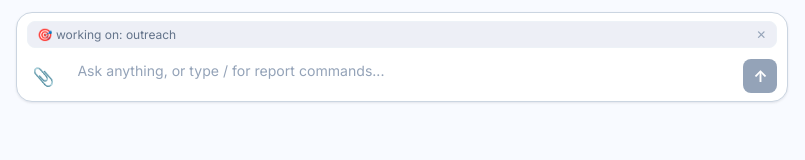
Test case: <ChatInputBar /> context bar › close button hides the context bar
Expected: the element with test id "context-bar" is shown, [27, 21, 777, 48]
Click the button with test id "context-bar-close" at [761, 34], box [756, 27, 766, 42]
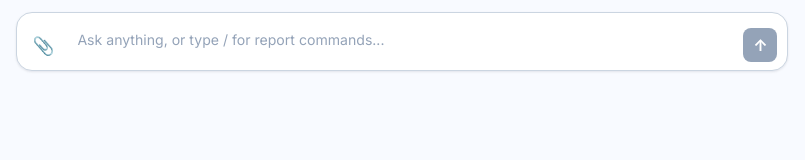
Result: the element with test id "context-bar" is gone
